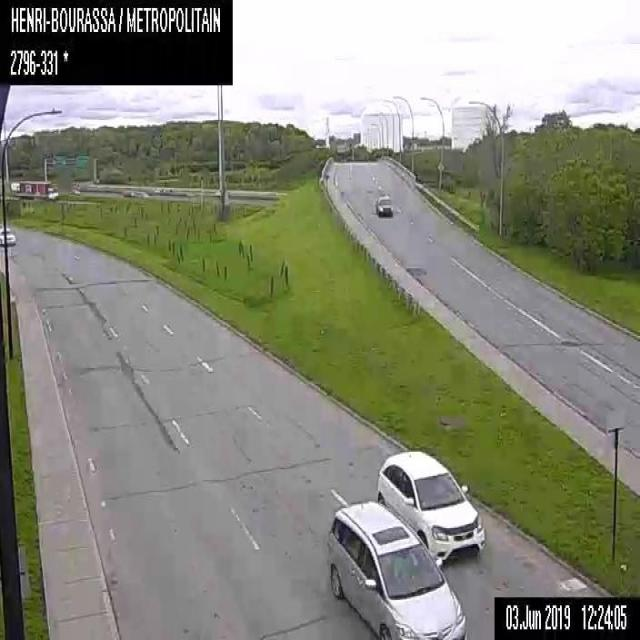vehicle: (325, 499, 466, 638), (376, 449, 485, 563), (19, 180, 57, 198), (375, 195, 393, 216), (0, 222, 15, 245)
